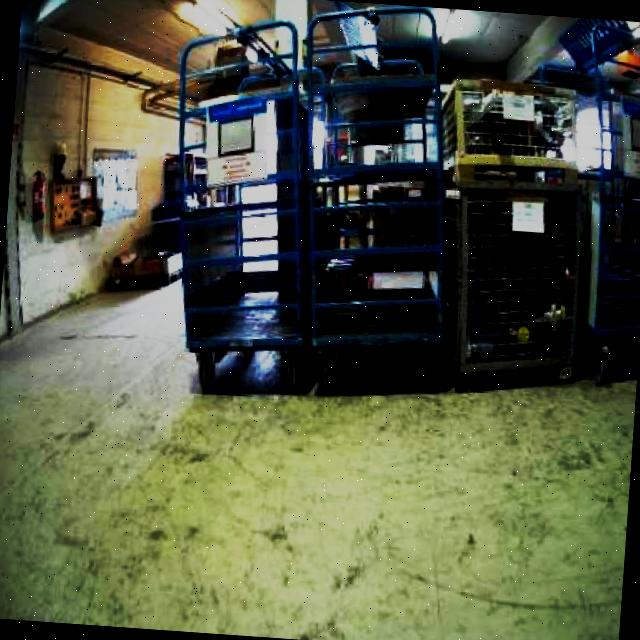ground: (0, 253, 640, 640)
pallet: (158, 0, 471, 407), (156, 17, 337, 400), (301, 55, 466, 401), (425, 73, 599, 400), (519, 15, 640, 387), (572, 85, 640, 387), (110, 244, 185, 290)
